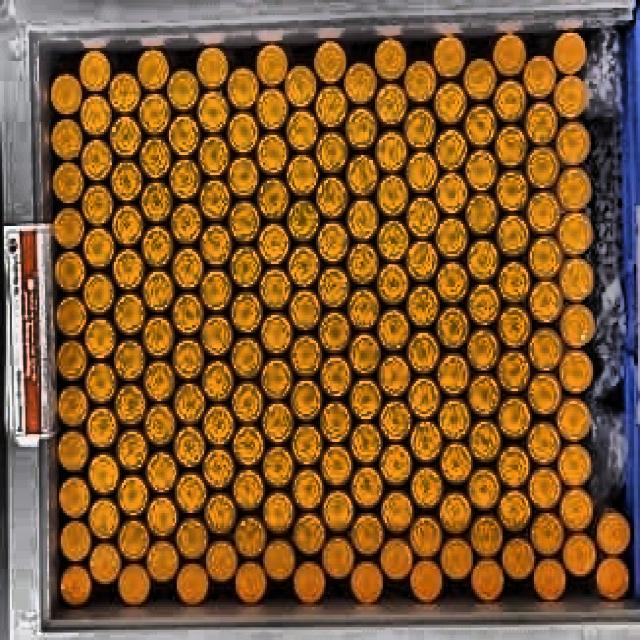vial: (438, 397, 472, 440), (526, 421, 559, 464), (497, 351, 530, 394), (555, 76, 588, 119), (561, 351, 593, 395), (526, 193, 561, 233), (556, 123, 591, 163), (557, 400, 591, 441), (531, 512, 564, 554), (529, 373, 562, 415), (494, 82, 527, 124), (284, 65, 317, 107), (200, 223, 232, 266), (597, 558, 629, 601), (563, 536, 597, 576), (377, 310, 411, 350), (81, 185, 114, 226), (171, 248, 204, 289), (113, 294, 146, 335), (55, 431, 88, 472), (351, 513, 384, 554), (597, 514, 630, 555), (498, 306, 531, 347), (110, 160, 142, 202), (174, 471, 206, 513), (559, 444, 591, 486), (468, 283, 500, 325), (464, 57, 496, 99), (256, 45, 288, 87), (314, 41, 346, 83), (344, 62, 376, 104), (316, 176, 348, 218), (56, 339, 87, 382), (174, 382, 205, 425), (293, 467, 324, 510), (351, 561, 382, 604), (51, 209, 85, 248), (57, 479, 91, 518), (524, 103, 558, 142), (405, 286, 439, 325), (498, 398, 531, 438), (466, 330, 499, 370), (436, 219, 469, 259), (286, 201, 319, 241), (374, 41, 407, 81), (80, 95, 112, 136), (170, 204, 202, 245), (408, 332, 440, 373), (562, 305, 594, 346), (560, 260, 592, 301), (466, 193, 498, 234), (464, 105, 496, 146), (288, 246, 320, 287), (351, 424, 383, 465), (51, 73, 82, 115), (230, 245, 261, 287), (90, 542, 121, 584), (382, 490, 413, 532), (499, 445, 530, 487), (441, 442, 472, 484), (352, 467, 383, 509), (320, 401, 351, 443), (379, 355, 410, 397), (264, 538, 294, 581), (167, 115, 200, 154), (139, 139, 172, 178), (435, 130, 468, 169), (346, 201, 379, 240), (139, 94, 171, 134), (57, 386, 89, 426), (202, 360, 234, 400), (60, 521, 92, 561), (293, 514, 325, 554), (468, 376, 500, 416), (530, 282, 562, 322), (495, 126, 527, 166), (526, 148, 558, 188), (286, 111, 318, 151), (380, 445, 412, 485), (347, 288, 379, 328), (406, 240, 438, 280), (406, 197, 438, 237), (375, 86, 407, 126), (432, 36, 464, 76), (138, 47, 169, 88), (201, 268, 232, 309), (85, 317, 116, 358), (143, 271, 174, 312), (114, 340, 145, 381), (87, 408, 118, 449), (116, 429, 147, 470), (147, 541, 178, 582), (411, 561, 442, 602), (472, 560, 503, 601), (503, 538, 534, 579), (499, 490, 530, 531), (530, 329, 561, 370), (467, 240, 498, 281), (558, 168, 589, 209), (437, 173, 468, 214), (524, 57, 555, 98), (79, 49, 109, 91), (143, 317, 173, 359), (117, 474, 147, 516), (264, 492, 294, 534), (469, 467, 499, 509), (471, 420, 501, 462), (437, 263, 470, 301), (50, 119, 82, 158), (110, 117, 142, 156), (83, 229, 115, 268), (141, 226, 173, 265), (59, 566, 91, 605), (227, 114, 259, 153), (256, 90, 288, 129), (257, 226, 289, 265), (230, 293, 262, 332), (290, 337, 322, 376), (346, 244, 378, 283), (346, 157, 378, 196), (381, 400, 410, 443), (109, 72, 140, 112), (196, 47, 227, 87), (199, 92, 230, 132), (80, 140, 111, 180), (113, 250, 144, 290), (145, 404, 176, 444), (204, 449, 235, 489), (145, 451, 176, 491), (471, 515, 502, 555), (530, 469, 561, 509), (499, 261, 530, 301), (530, 238, 561, 278), (321, 357, 352, 397), (261, 358, 292, 398), (289, 291, 320, 331), (317, 223, 348, 263), (377, 176, 408, 216), (346, 109, 377, 149), (199, 179, 229, 220), (89, 454, 119, 495), (177, 563, 207, 604), (236, 515, 266, 556), (263, 447, 293, 488), (294, 561, 324, 602), (410, 515, 440, 556), (411, 467, 441, 508), (441, 494, 471, 535), (441, 539, 471, 580), (292, 425, 322, 466), (316, 86, 346, 127), (229, 69, 258, 111), (167, 71, 199, 109), (111, 206, 143, 244), (55, 297, 87, 335), (497, 218, 529, 256), (466, 151, 498, 189), (286, 157, 318, 195), (257, 180, 289, 218), (376, 134, 408, 172), (434, 85, 466, 123), (53, 162, 84, 201), (169, 161, 200, 200), (173, 340, 204, 379), (54, 252, 85, 291), (144, 362, 175, 401), (203, 405, 234, 444), (88, 498, 119, 537), (533, 560, 564, 599), (410, 423, 441, 462), (408, 379, 439, 418), (438, 308, 469, 347), (560, 215, 591, 254), (257, 134, 288, 173), (230, 340, 261, 379), (319, 313, 350, 352), (230, 202, 260, 242), (86, 363, 116, 403), (115, 385, 145, 425), (205, 493, 235, 533), (236, 562, 266, 602), (323, 490, 353, 530), (381, 539, 411, 579), (263, 403, 293, 443), (322, 445, 352, 485), (319, 268, 349, 308), (261, 314, 291, 354), (316, 131, 346, 171), (405, 109, 435, 149), (406, 61, 436, 101), (323, 537, 352, 578), (439, 354, 468, 395), (494, 37, 526, 74), (232, 429, 264, 466), (177, 519, 208, 557), (233, 470, 264, 508), (292, 382, 323, 420), (174, 294, 204, 333), (142, 183, 172, 222), (84, 275, 114, 314), (174, 428, 204, 467), (206, 541, 236, 580), (561, 491, 591, 530), (497, 172, 527, 211), (351, 380, 381, 419), (378, 265, 408, 304), (379, 222, 409, 261), (199, 135, 228, 175), (202, 315, 231, 355), (261, 269, 290, 309), (351, 334, 379, 375), (554, 34, 585, 71), (231, 385, 262, 422), (120, 565, 149, 604), (229, 157, 257, 197), (120, 522, 150, 559), (148, 496, 177, 534), (408, 155, 437, 193)
